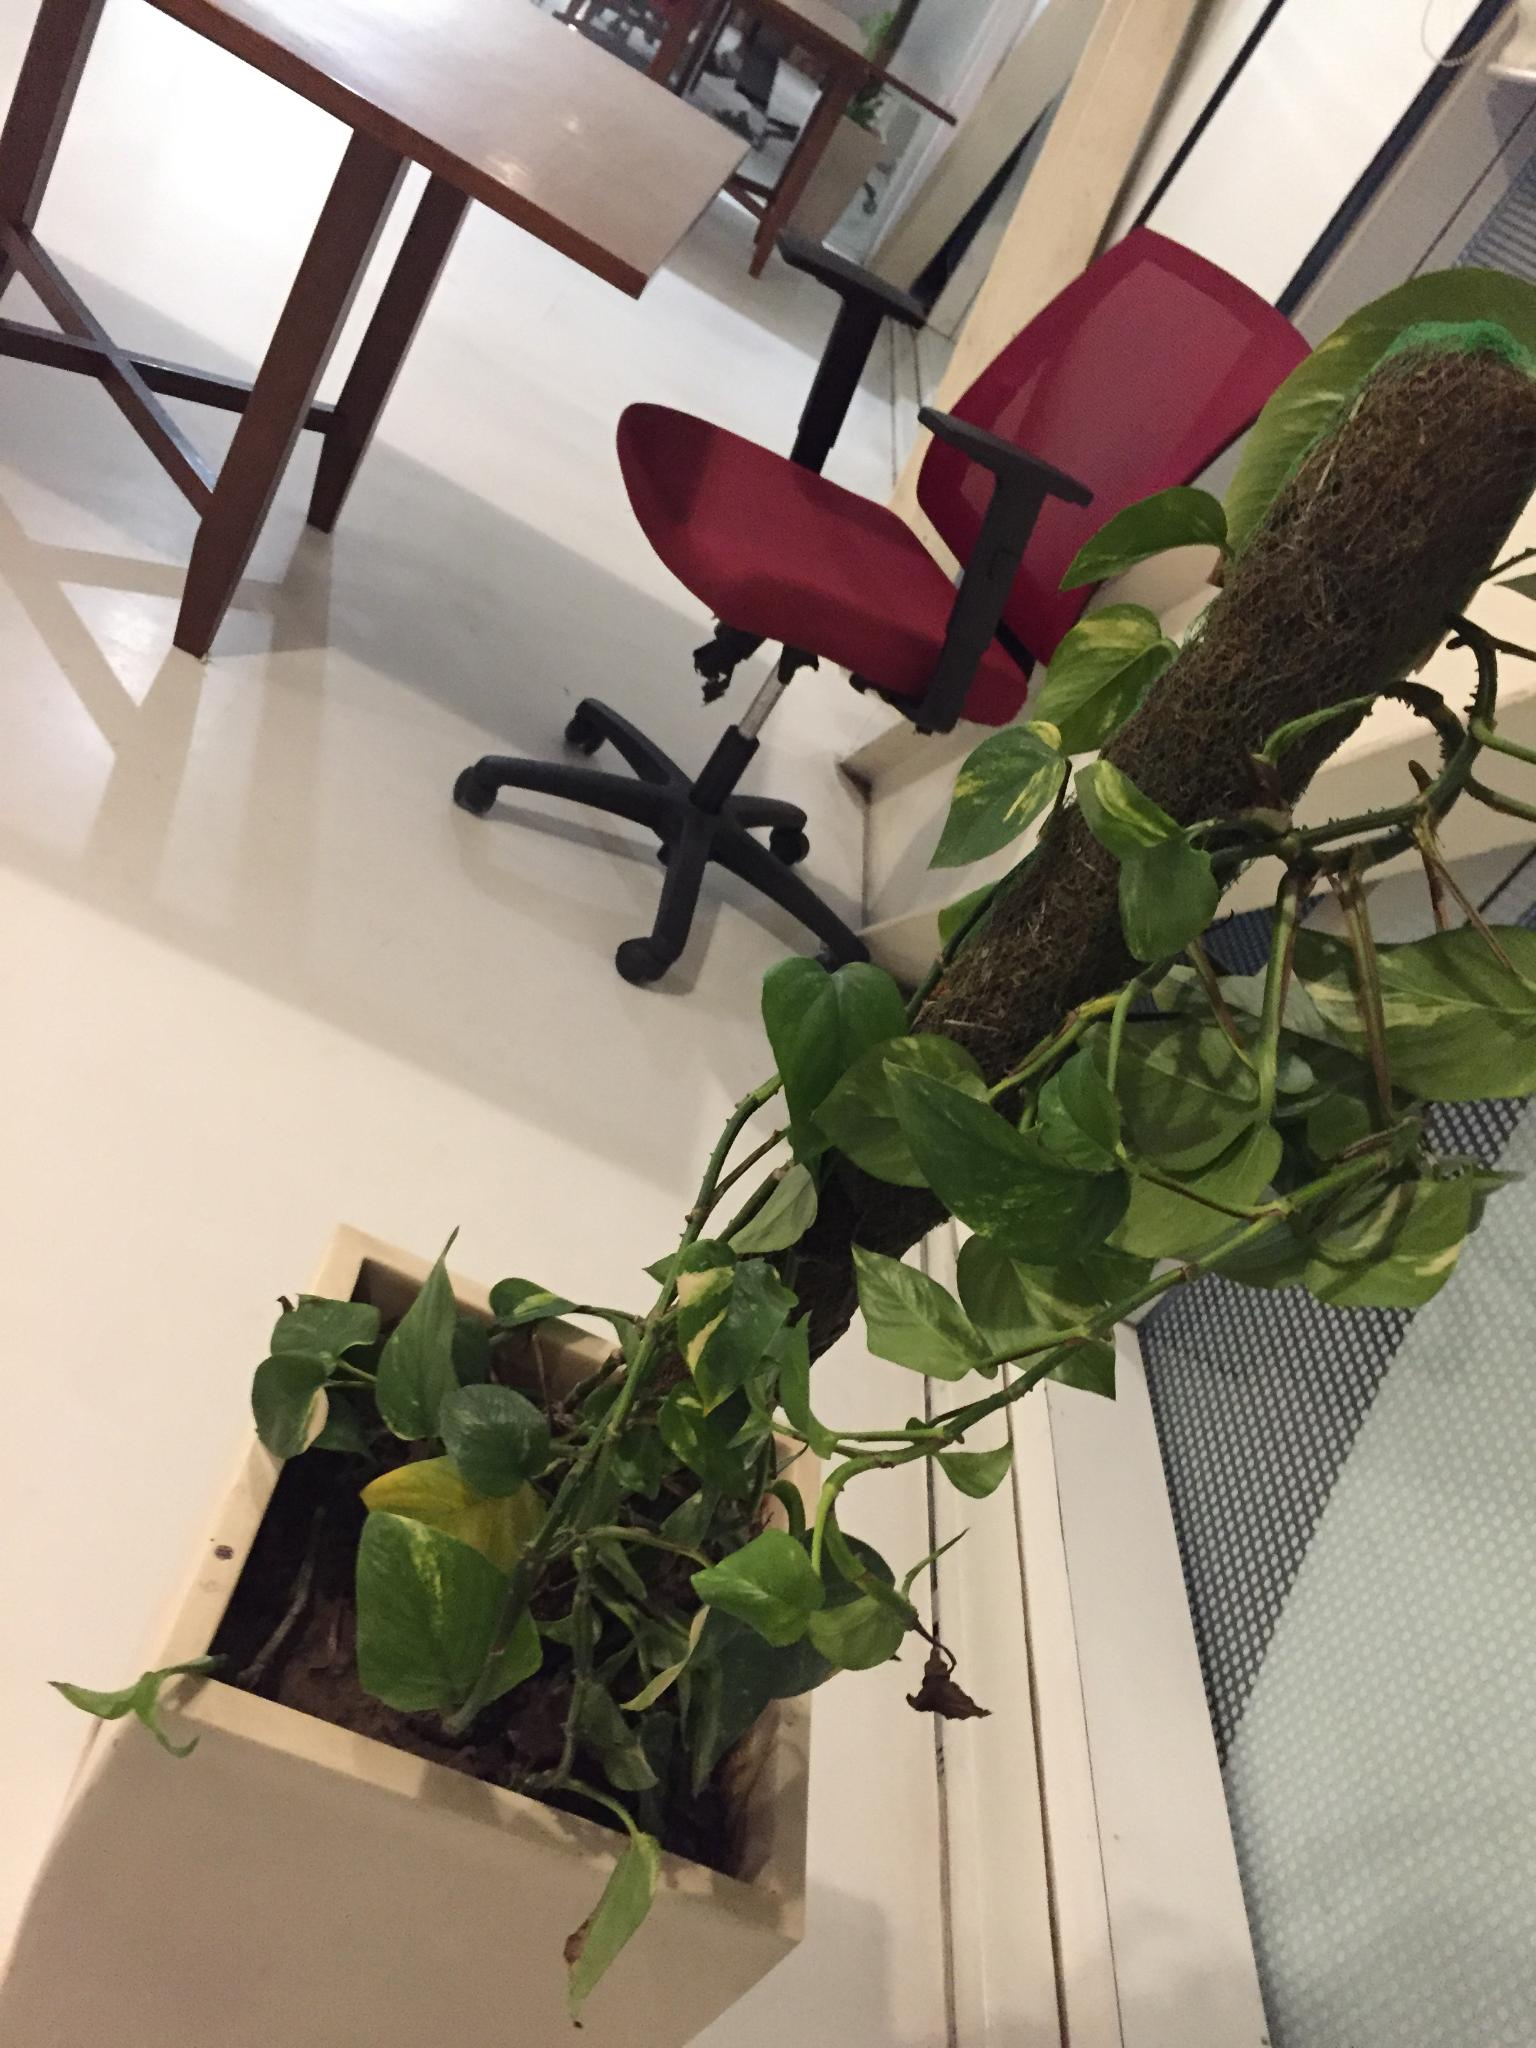chair: (452, 223, 1315, 989)
